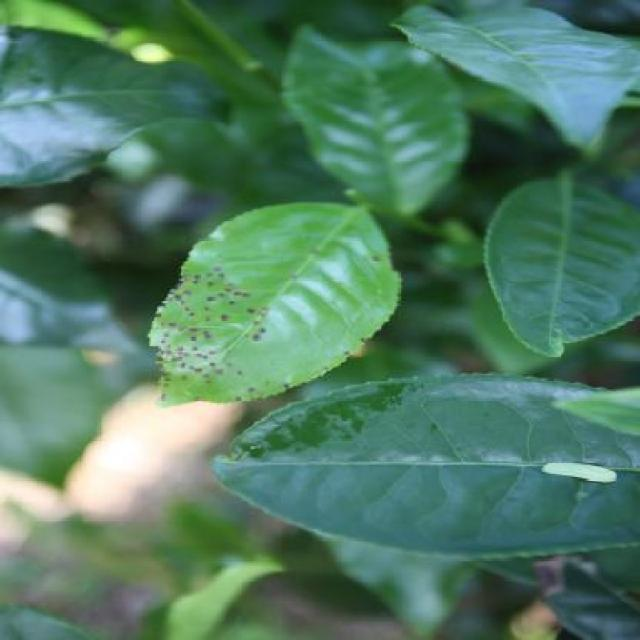Tea Mosquito bug infested leaf: (120, 183, 397, 422)
